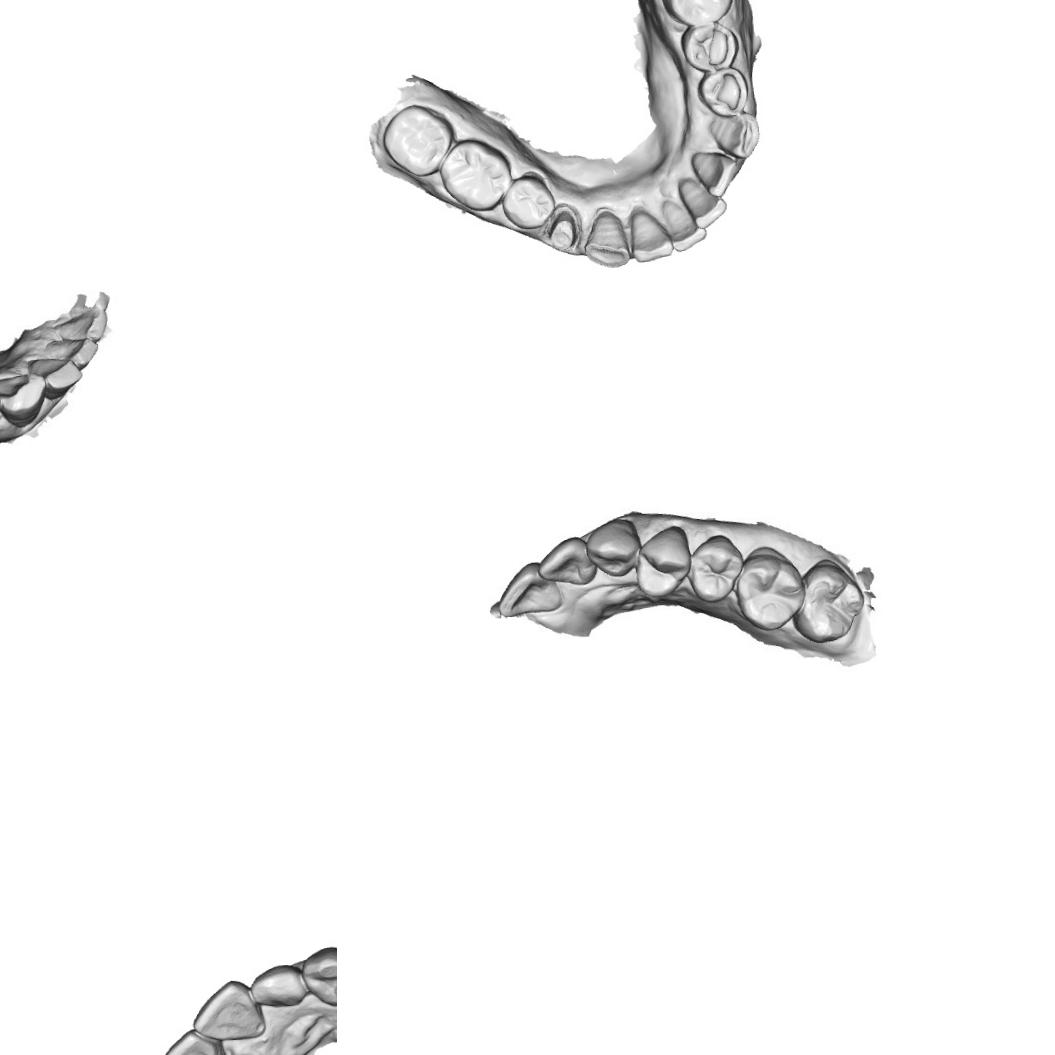canine: (580, 208, 634, 270), (586, 517, 640, 578), (703, 110, 762, 164), (0, 368, 50, 429), (297, 941, 337, 1013)
crown: (542, 202, 582, 253)
incisor: (188, 976, 266, 1044), (491, 560, 564, 620), (676, 174, 729, 231), (247, 960, 306, 1011), (627, 204, 676, 264), (538, 534, 594, 586), (660, 196, 708, 255), (688, 148, 742, 200), (28, 352, 81, 402), (43, 328, 100, 370), (152, 1026, 234, 1055), (51, 308, 109, 345)
molar: (787, 556, 870, 646), (727, 546, 805, 636), (434, 134, 514, 214), (378, 100, 457, 180), (654, 0, 736, 30)
premolar: (683, 528, 747, 606), (628, 524, 694, 599), (677, 18, 742, 76), (498, 170, 558, 232), (696, 65, 756, 120)
